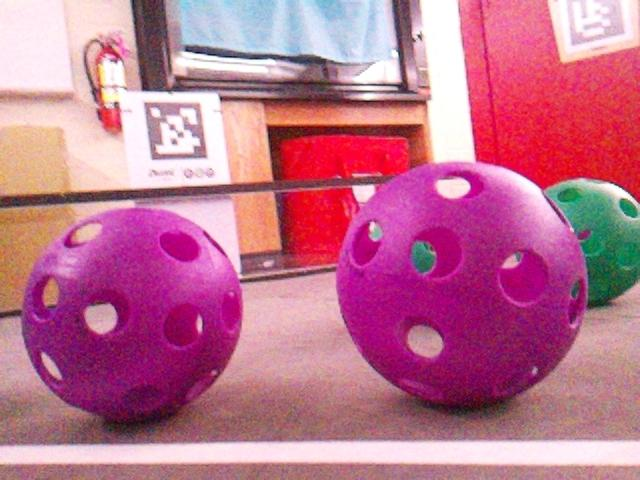Green: (542, 178, 640, 306)
Purple: (335, 161, 585, 404), (19, 208, 241, 422)
